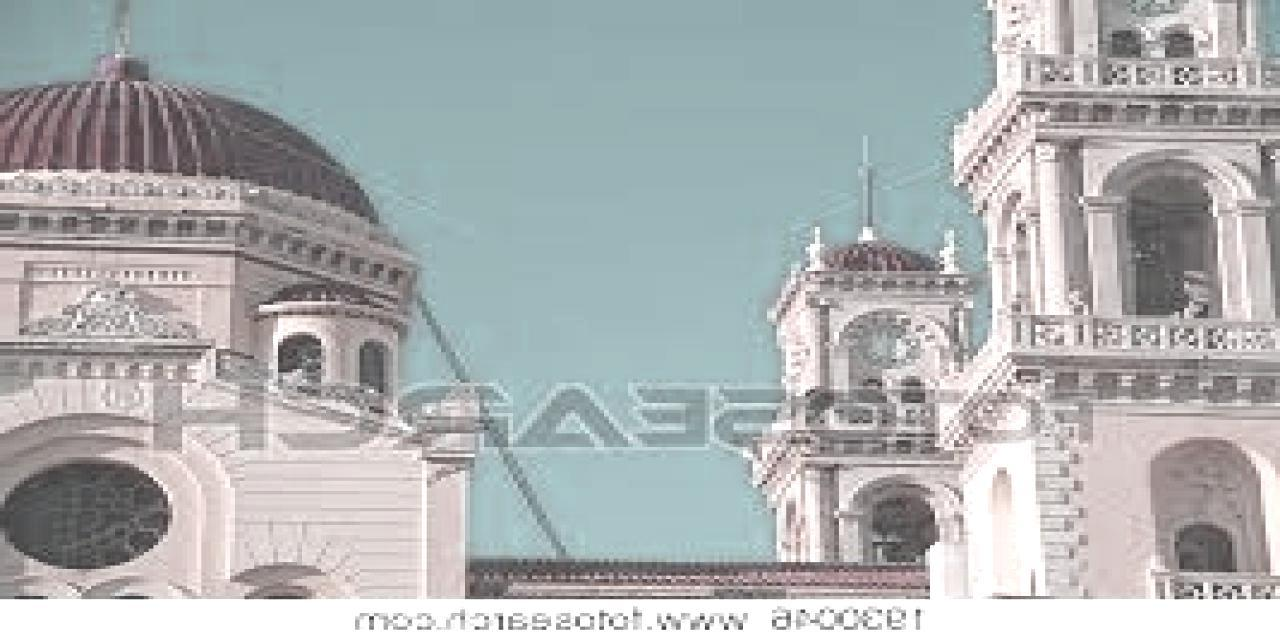Agios Minas: (1, 3, 1277, 600)
